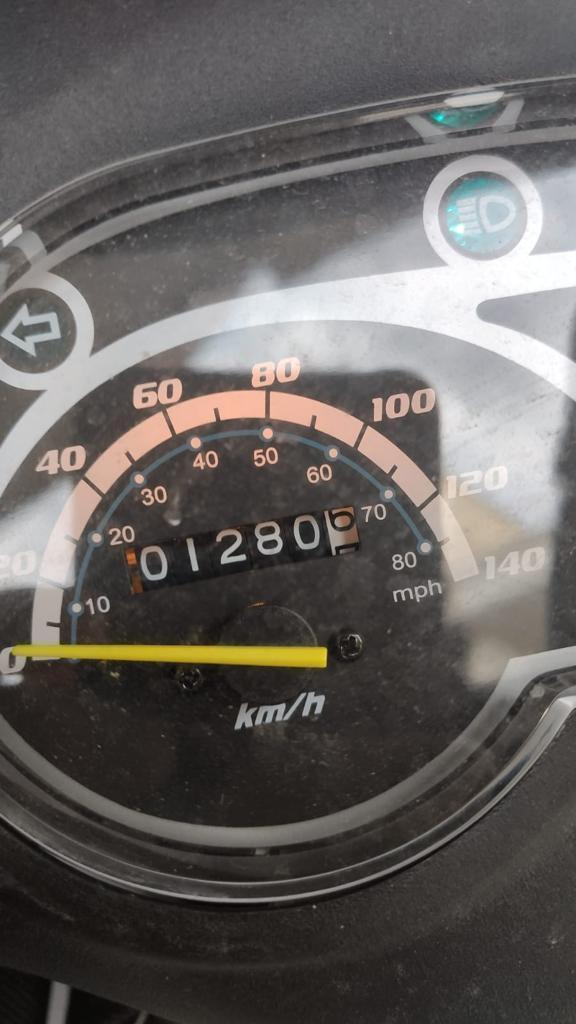0: (139, 545, 168, 581), (293, 514, 321, 550), (122, 525, 134, 543)
1: (184, 535, 200, 572)
2: (214, 527, 248, 565)
6: (327, 506, 356, 532)
7: (332, 540, 360, 557)
8: (254, 520, 284, 556)
odometer: (118, 502, 362, 598)
